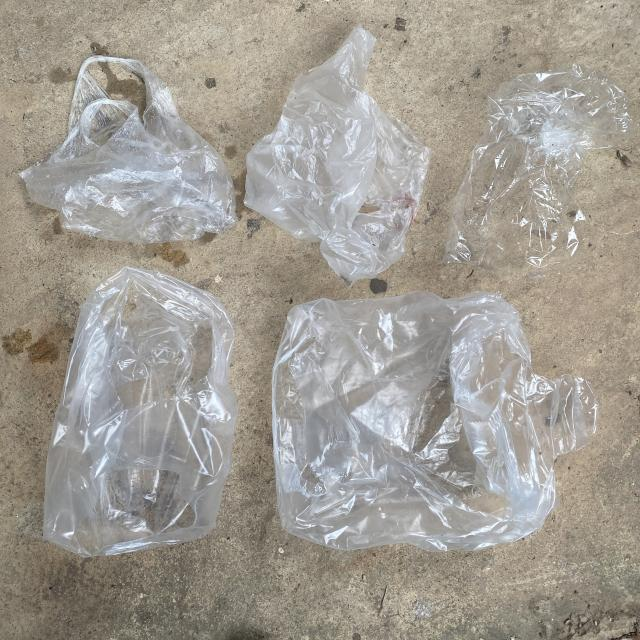Single-layer Plastic: (272, 291, 598, 551), (44, 268, 238, 556), (245, 26, 430, 285), (444, 65, 638, 275), (20, 56, 236, 244)
